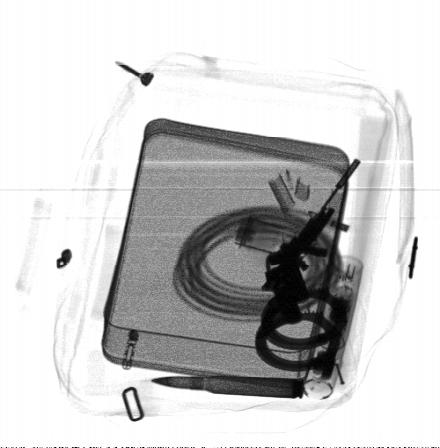Baton: (302, 253, 364, 400)
Bullet: (152, 375, 304, 401)
Gun: (258, 157, 362, 293)
HandCuffs: (256, 270, 349, 373)
